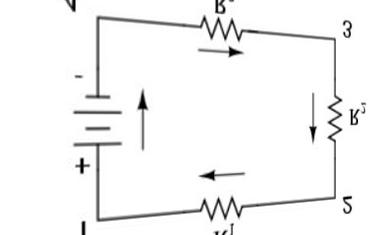resistor: (193, 182, 255, 221), (190, 9, 256, 43), (324, 82, 344, 145)
